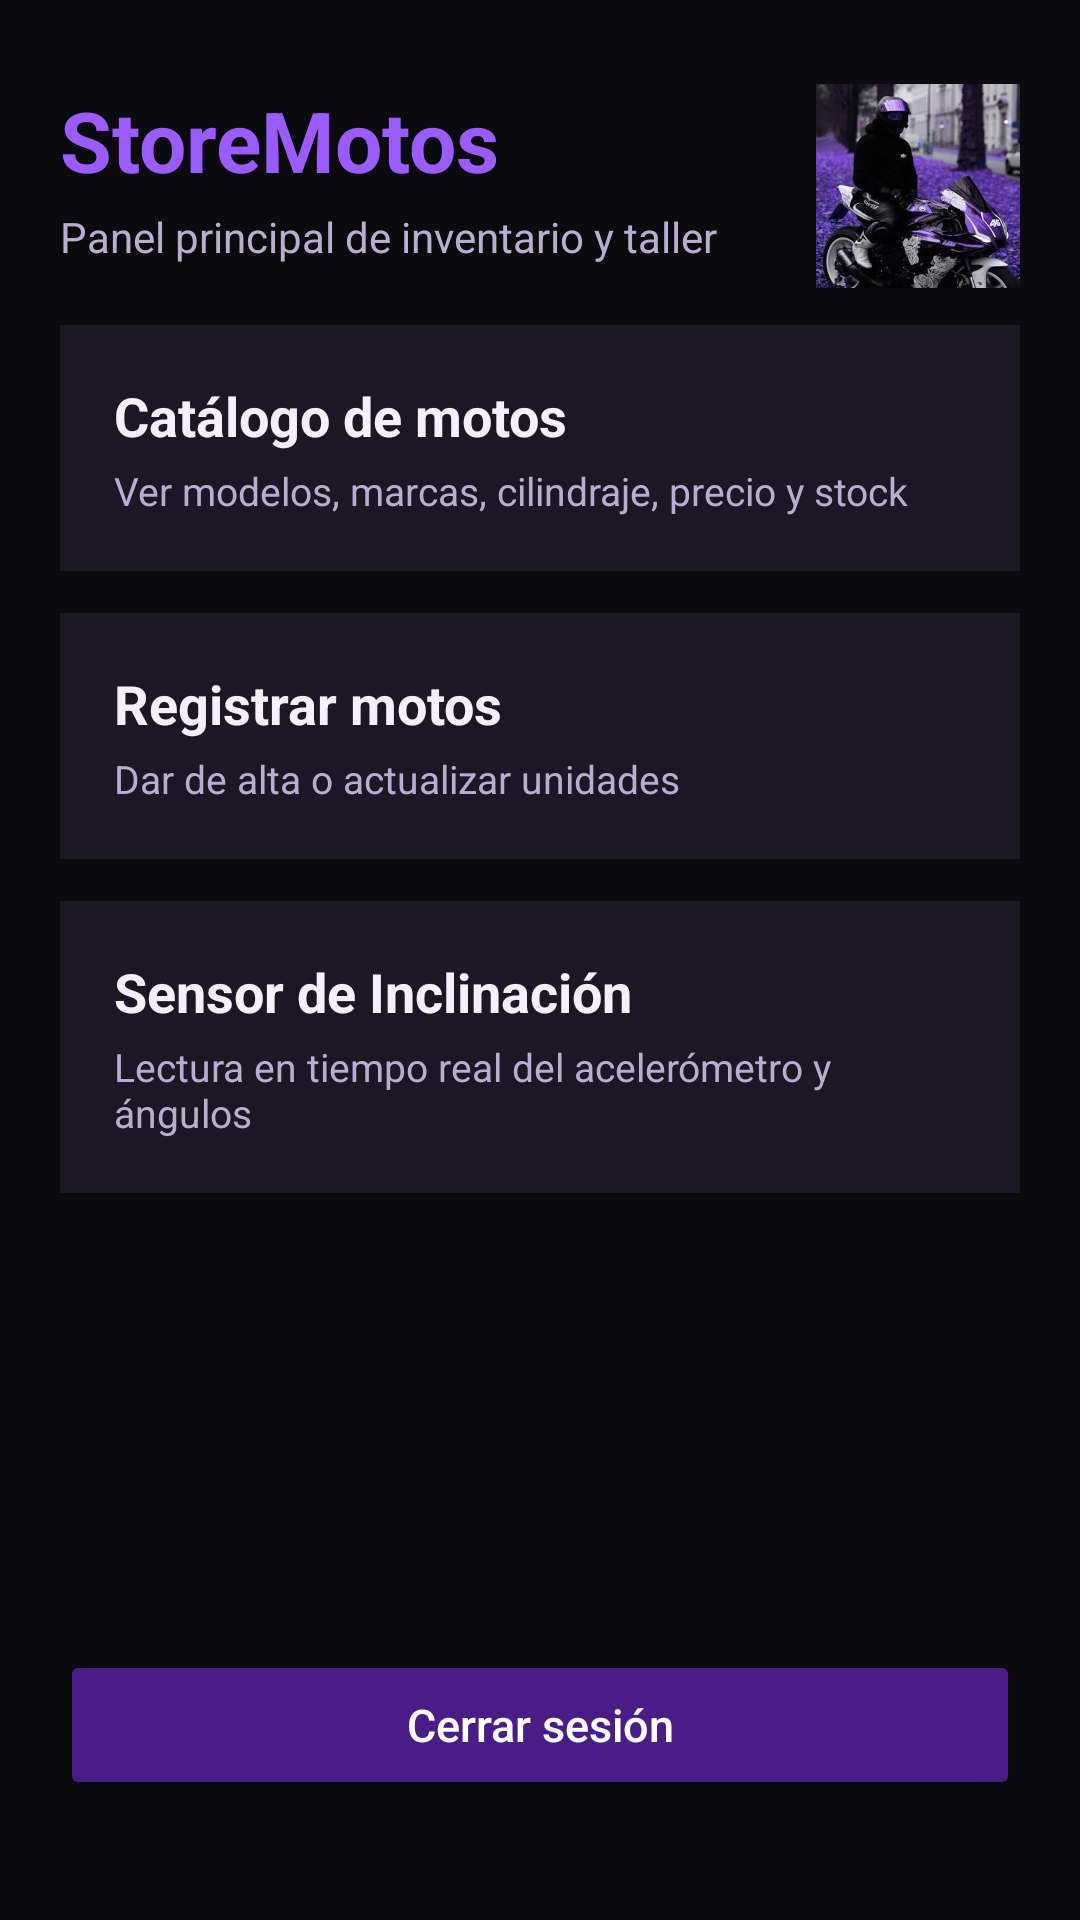

Named icons in this screenshot (1080px x 1920px) and their bounding boxes, (x1, y1, x2, y2):
Imagen de moto en menú: (816, 84, 1020, 288)
